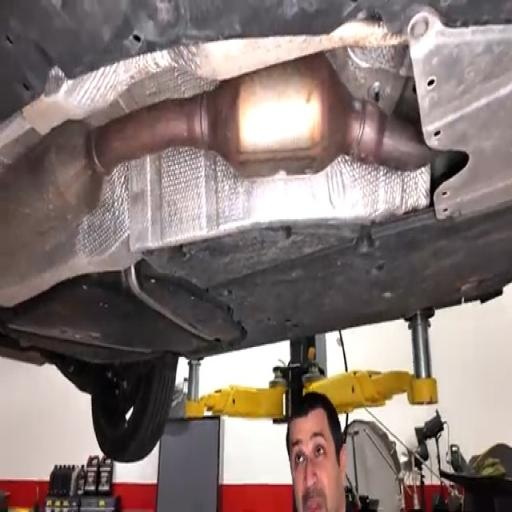tire: (92, 355, 177, 462)
wheel: (92, 355, 177, 462)
